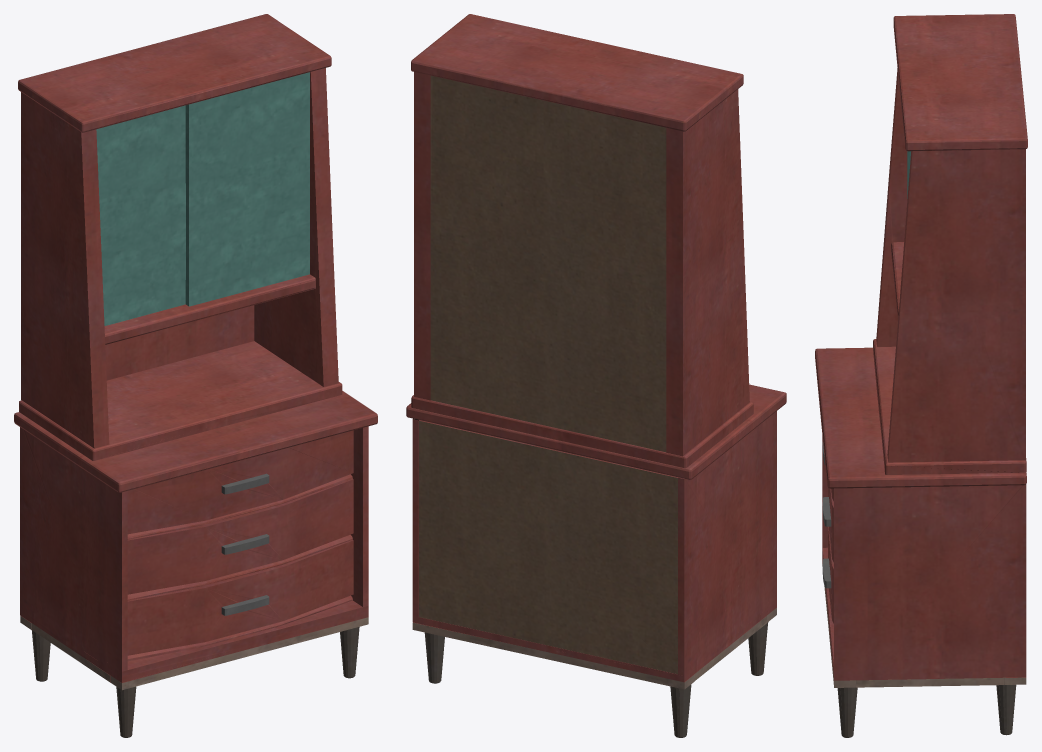
Rendered from shelf.50da2b04.glb.
The picture shows the model from 3 angles, left to right: view 1: azimuth 30°, elevation 25°; view 2: azimuth 150°, elevation 25°; view 3: azimuth 270°, elevation 25°; orthographic projection. The views are drawn at different scales.
Parts seen in each view (by area): view 1: red-shelf; view 2: red-shelf; view 3: red-shelf.
Boxes of the visible parts, bbox=[...] form: red-shelf: bbox=[14, 14, 377, 737]; red-shelf: bbox=[406, 14, 786, 737]; red-shelf: bbox=[815, 14, 1027, 737].
Bounding box in the file's own units: 1.65 × 3.45 × 1.11.
Materials: 1 (1 with a texture image).
